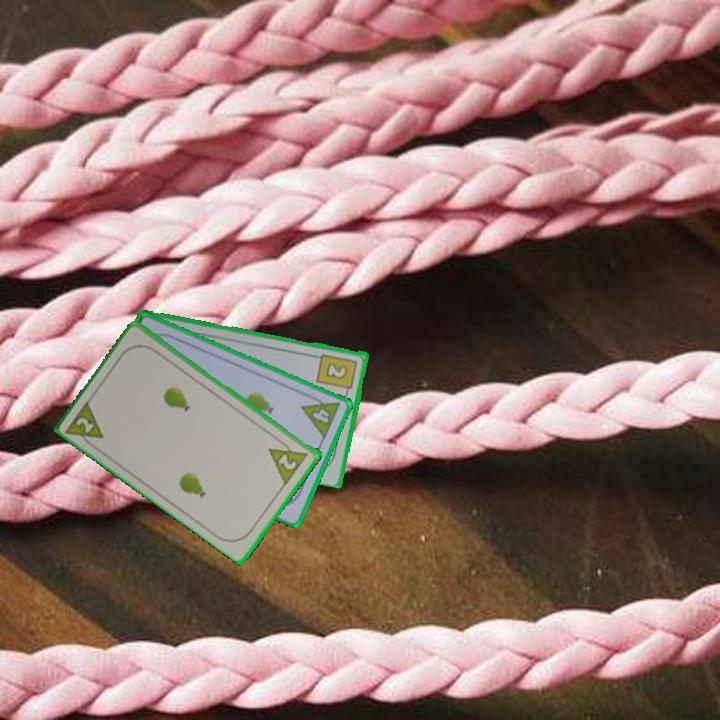2b: (314, 350, 360, 397)
2p: (63, 396, 107, 452), (265, 434, 311, 487)
4p: (298, 390, 343, 441)
